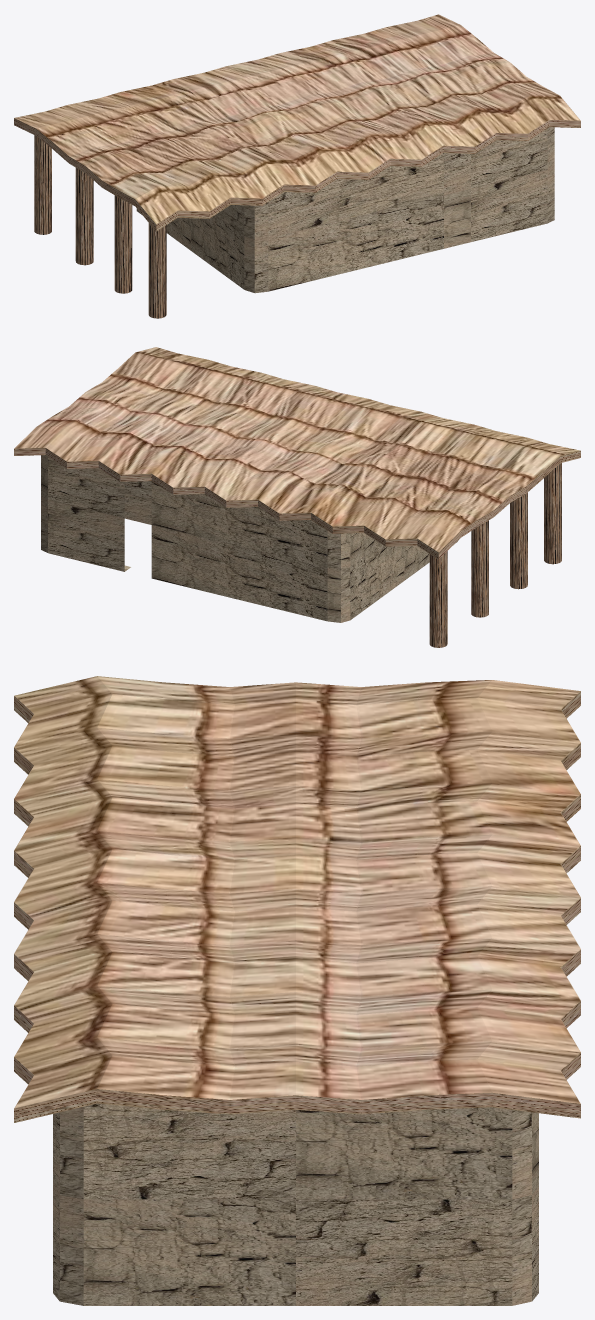
The model's file is Rancho_LVL01.glb.
3 views of the same model, one above another, from view 1: azimuth 30°, elevation 25°; view 2: azimuth 150°, elevation 25°; view 3: azimuth 270°, elevation 25° (orthographic). The views are drawn at different scales.
Visible parts, largest first — view 1: Cube.005, Cube, Cube.004, Cube.002, Cube.003, Cube.001; view 2: Cube.005, Cube, Cube.001, Cube.003, Cube.002, Cube.004; view 3: Cube.005, Cube.
Boxes of the visible parts, x1,y1,x2,y2 form: Cube.005: (14,14,580,231); Cube: (136,127,554,293); Cube.004: (114,195,132,293); Cube.002: (75,168,93,265); Cube.003: (148,223,166,318); Cube.001: (34,135,51,234); Cube.005: (14,347,580,559); Cube: (41,455,457,622); Cube.001: (429,551,447,647); Cube.003: (544,463,561,564); Cube.002: (471,520,488,617); Cube.004: (510,492,527,589); Cube.005: (14,676,580,1122); Cube: (53,1103,538,1305).
Bounding box in the file's own units: 10.42 × 2.76 × 6.05.
6 materials, 6 textured.
